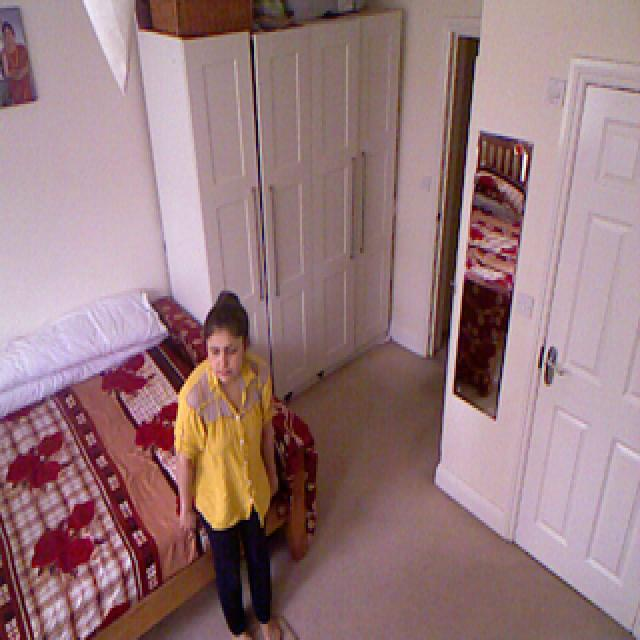standing: (166, 295, 284, 640)
